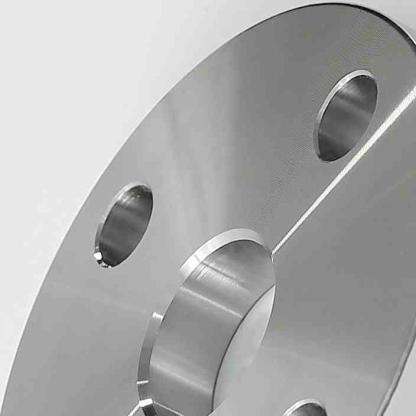FOD: (2, 0, 416, 416)
